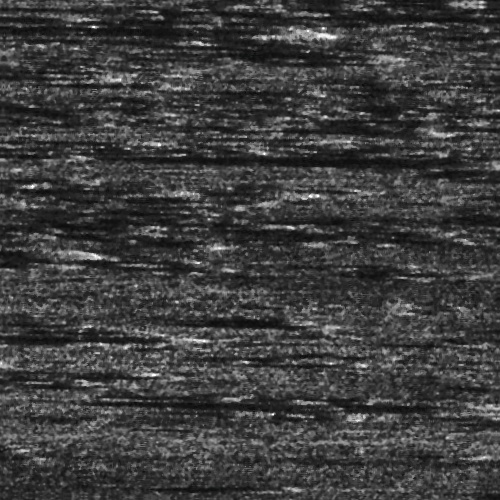object: (131, 332, 236, 343), (208, 483, 333, 492), (115, 371, 230, 380), (29, 250, 122, 261), (342, 43, 405, 58), (418, 398, 500, 409), (234, 188, 339, 195), (446, 149, 500, 162), (282, 317, 345, 326), (142, 189, 215, 194), (255, 28, 318, 33), (401, 125, 464, 130), (27, 17, 80, 22), (163, 39, 216, 44), (152, 82, 193, 87), (141, 8, 182, 13), (282, 9, 313, 12), (434, 0, 475, 1)
shadow: (134, 5, 500, 18), (179, 149, 498, 162), (108, 43, 373, 58), (173, 398, 470, 409), (0, 332, 184, 343), (0, 371, 173, 380), (0, 28, 286, 33), (156, 317, 313, 326), (146, 483, 270, 492), (222, 125, 432, 130), (0, 39, 189, 44), (0, 189, 179, 194), (0, 250, 75, 261), (22, 9, 297, 12), (16, 8, 161, 13), (30, 82, 172, 87), (468, 482, 500, 497), (244, 188, 286, 195), (0, 17, 54, 22), (0, 263, 43, 266), (326, 0, 454, 1), (459, 189, 500, 192)
